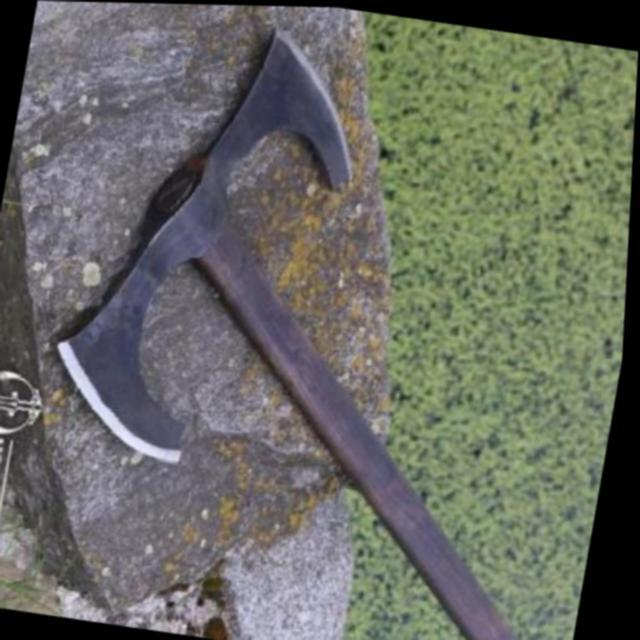weapon: (15, 1, 622, 640)
